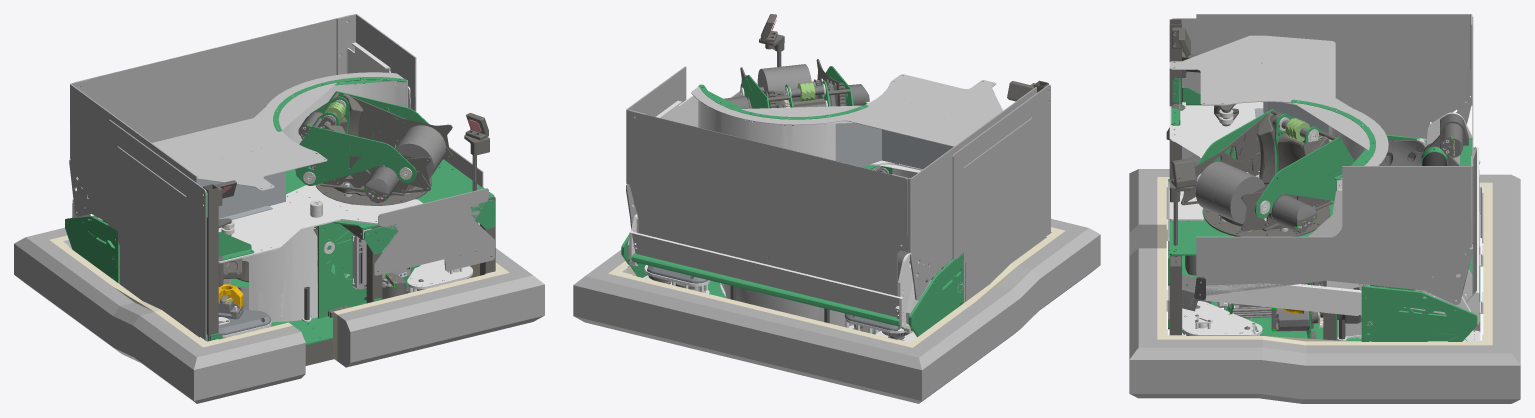
3 views of the same model, side by side, from view 1: azimuth 30°, elevation 25°; view 2: azimuth 150°, elevation 25°; view 3: azimuth 270°, elevation 25° (orthographic). The views are drawn at different scales.
Parts seen in each view (by area): view 1: Part 5, Hopper_F, Part 22, Part 6, Part 52, Wall 2, Hopper_L, Back Spindexer Insert, Bigus Plate, Hood Plate Left, Hopper_R, Kicker Back Side (+27 smaller); view 2: Hopper_F, Part 5, Part 22, Part 6, Part 52, Hopper_L, Ramp_Main, Front E-Chain Guard, Arc, 075_Round_Supp, Sidewall_O_A, Hopper_R (+10 smaller); view 3: Part 6, Hopper_R, Hopper_L, Part 52, Sidewall_O_B, Part 5, Rack, Hood Plate Right, Bigus Plate, Stationary Plate Left, MK4i Master Part V2_Default Falcon 500 Config.011, WCP-0195-001 Rev1 (+33 smaller).
Part boxes in pixels (left/top/right/bottom): Part 5: left=14, top=227, right=305, bottom=403; Hopper_F: left=74, top=15, right=350, bottom=142; Part 22: left=107, top=119, right=206, bottom=341; Part 6: left=337, top=248, right=544, bottom=367; Part 52: left=152, top=72, right=403, bottom=190; Wall 2: left=373, top=188, right=494, bottom=275; Hopper_L: left=69, top=79, right=197, bottom=222; Back Spindexer Insert: left=218, top=227, right=317, bottom=322; Bigus Plate: left=218, top=185, right=422, bottom=263; Hood Plate Left: left=295, top=126, right=416, bottom=185; Hopper_R: left=336, top=14, right=483, bottom=187; Kicker Back Side: left=318, top=222, right=420, bottom=318; Hopper_F: left=628, top=111, right=907, bottom=296; Part 5: left=747, top=219, right=1100, bottom=403; Part 22: left=952, top=84, right=1050, bottom=302; Part 6: left=573, top=250, right=759, bottom=362; Part 52: left=691, top=74, right=1002, bottom=146; Hopper_L: left=892, top=87, right=1036, bottom=300; Ramp_Main: left=631, top=232, right=900, bottom=317; Front E-Chain Guard: left=835, top=123, right=952, bottom=169; Arc: left=698, top=85, right=835, bottom=160; 075_Round_Supp: left=631, top=253, right=899, bottom=326; Sidewall_O_A: left=908, top=252, right=963, bottom=336; Hopper_R: left=626, top=66, right=740, bottom=228; Part 6: left=1129, top=248, right=1520, bottom=403; Hopper_R: left=1196, top=156, right=1472, bottom=304; Hopper_L: left=1196, top=14, right=1472, bottom=139; Part 52: left=1169, top=35, right=1388, bottom=179; Sidewall_O_B: left=1361, top=285, right=1477, bottom=341; Part 5: left=1129, top=169, right=1520, bottom=271; Rack: left=1194, top=279, right=1470, bottom=316; Hood Plate Right: left=1255, top=137, right=1354, bottom=218; Bigus Plate: left=1169, top=102, right=1263, bottom=220; Stationary Plate Left: left=1181, top=117, right=1263, bottom=205; MK4i Master Part V2_Default Falcon 500 Config.011: left=1182, top=301, right=1262, bottom=335; WCP-0195-001 Rev1: left=1213, top=169, right=1264, bottom=223.
Bounding box in the file's own units: 90.17 × 55.01 × 80.01.
